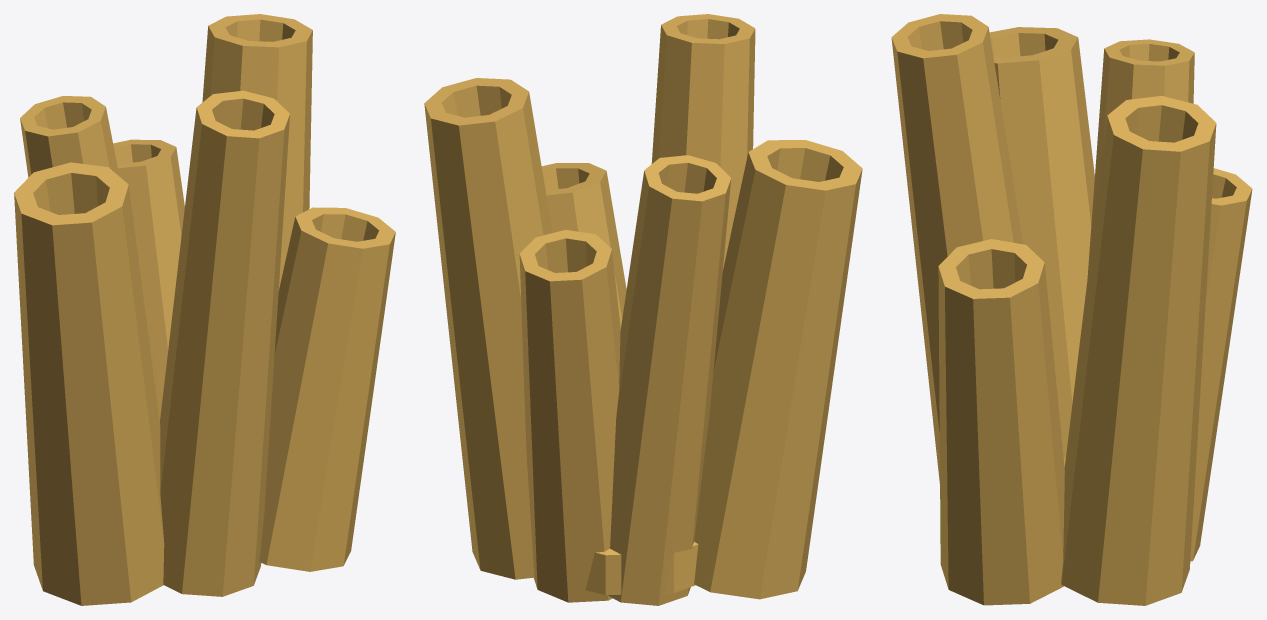
File: coral_003c_tube.glb
The picture shows the model from 3 angles, left to right: view 1: azimuth 30°, elevation 25°; view 2: azimuth 150°, elevation 25°; view 3: azimuth 270°, elevation 25°; orthographic projection. The views are drawn at different scales.
Parts seen in each view (by area): view 1: coral_003c_tube__mesh; view 2: coral_003c_tube__mesh; view 3: coral_003c_tube__mesh.
Part boxes in pixels (<box>): coral_003c_tube__mesh: <box>14,14,395,605</box>; coral_003c_tube__mesh: <box>424,14,862,605</box>; coral_003c_tube__mesh: <box>891,14,1252,605</box>.
Bounding box in the file's own units: 0.6023 × 0.7969 × 0.5115.
